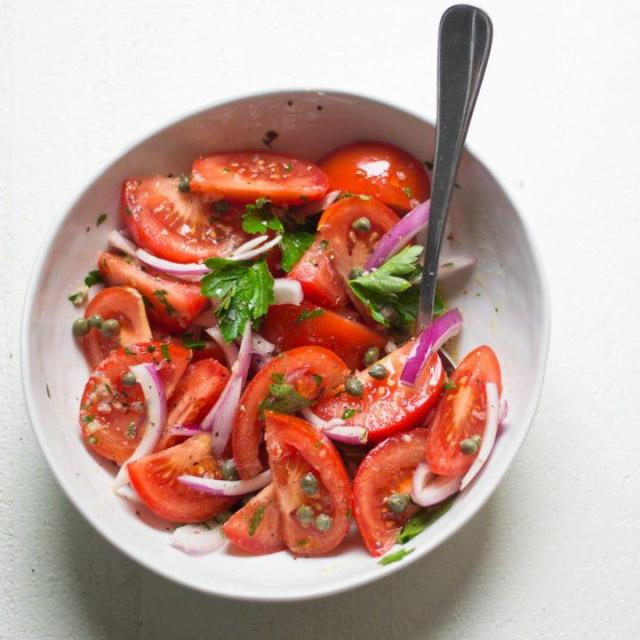Tomato: (259, 403, 352, 553), (197, 144, 331, 207)
